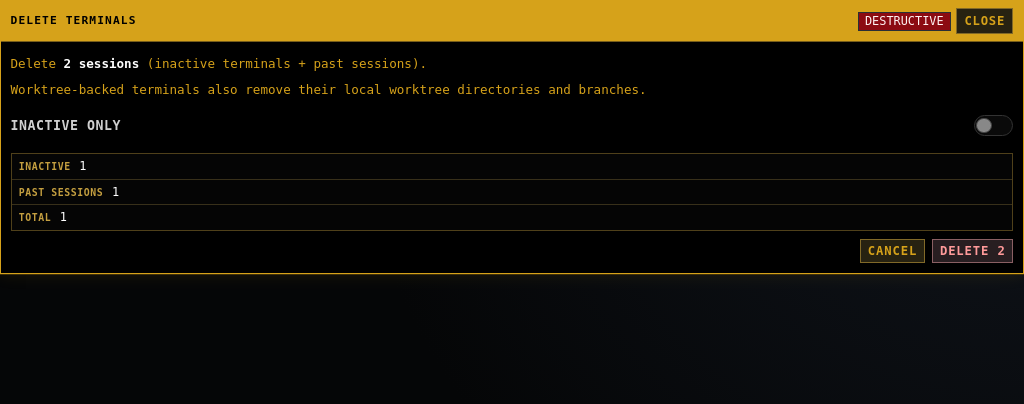
Test: DeleteAllTerminalsDialog › surfaces partial failures after refreshing the parent state
Click the button with aria-label "Confirm delete all terminals" at (973, 251), box [932, 239, 1014, 263]
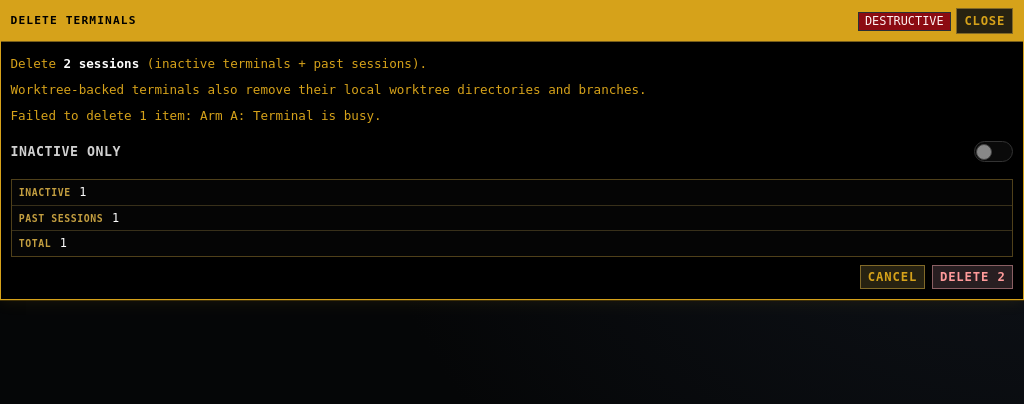
Now the message reads "Failed to delete 1 item: Arm A: Terminal is busy.", box [10, 108, 382, 123]
